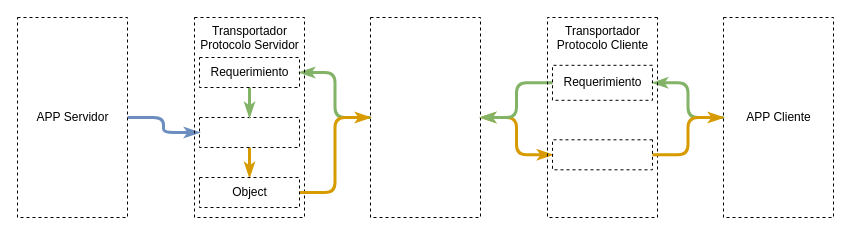
This 851x235 diagram has some shape labels left out. The shapes that lost their labels are listed below. From the top down, each one's centre as x and y in pixels, then its label:
pixel 249 132: Define Usos
pixel 425 117: Internet
pixel 602 154: Respuesta
